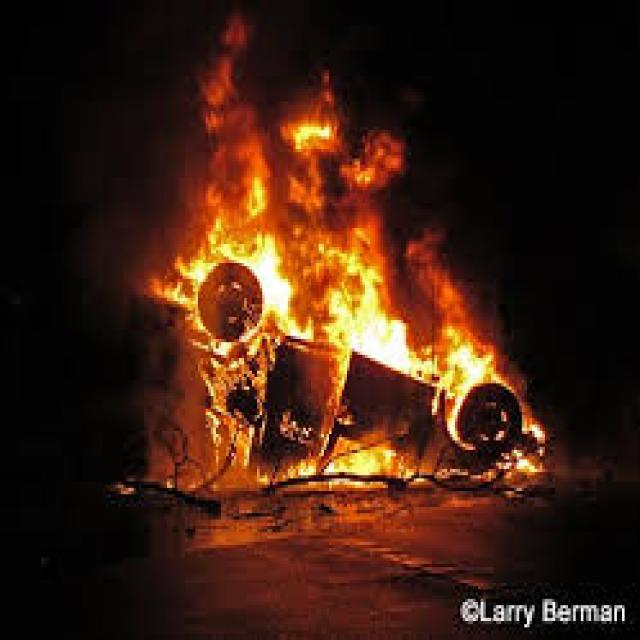Fire: (287, 400, 539, 490), (424, 268, 502, 432), (264, 90, 354, 224), (340, 134, 402, 286), (212, 194, 294, 306), (207, 341, 284, 449), (334, 258, 410, 364), (202, 32, 255, 181)
Smoke: (105, 79, 186, 245), (136, 346, 206, 486)
